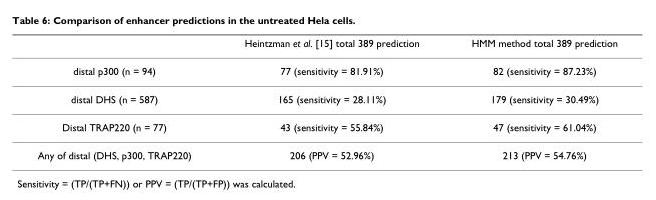table: (36, 36, 617, 160)
table column: (217, 36, 444, 160), (36, 36, 217, 160), (444, 36, 617, 160)
table column header: (36, 36, 617, 56)
table row: (36, 56, 617, 84), (36, 84, 617, 112), (36, 112, 617, 140), (36, 36, 617, 56), (36, 140, 617, 160)
